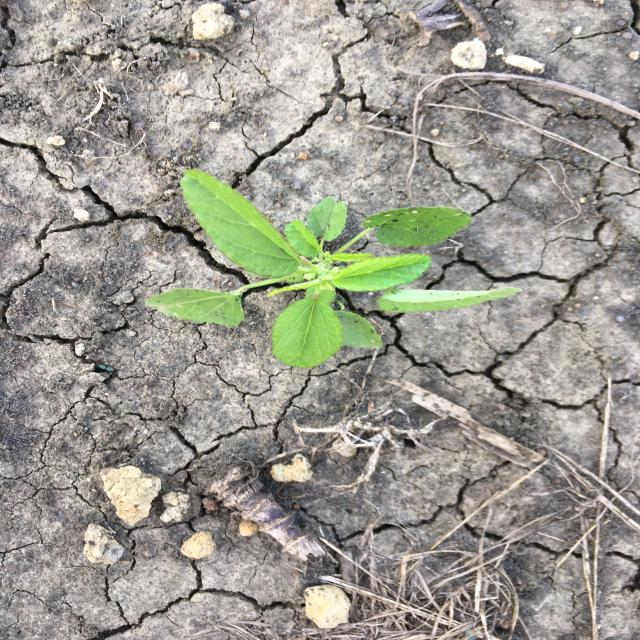PricklySida: (143, 165, 527, 371)
